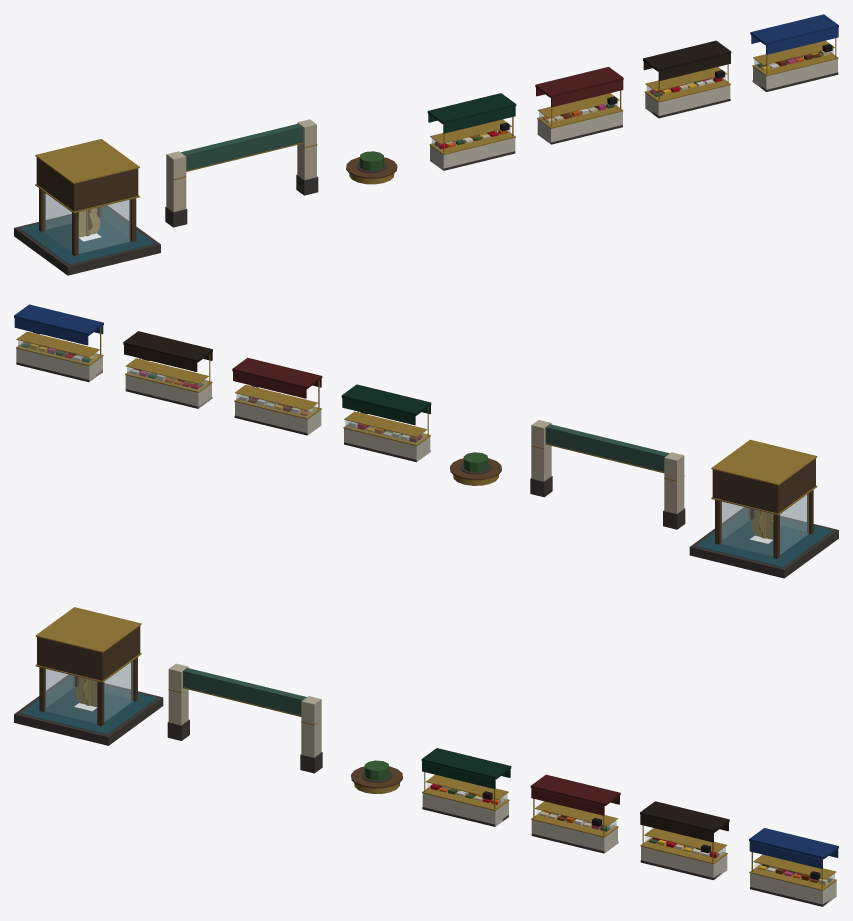
The model's file is miochika.glb.
3 views of the same model, one above another, from view 1: azimuth 30°, elevation 25°; view 2: azimuth 150°, elevation 25°; view 3: azimuth 330°, elevation 25° (orthographic).
Visible parts, largest first — view 1: miochika_clock_body, miochika_gate_body, miochika_counter_c_body, miochika_counter_a_body, miochika_counter_b_body, miochika_counter_d_body, miochika_bench_body, miochika_counter_b_signs, miochika_counter_a_signs, miochika_counter_c_signs, miochika_counter_d_signs; view 2: miochika_clock_body, miochika_gate_body, miochika_counter_c_body, miochika_counter_d_body, miochika_counter_b_body, miochika_counter_a_body, miochika_bench_body, miochika_counter_d_signs, miochika_counter_a_signs, miochika_counter_b_signs, miochika_counter_c_signs; view 3: miochika_clock_body, miochika_gate_body, miochika_counter_a_body, miochika_counter_b_body, miochika_counter_c_body, miochika_counter_d_body, miochika_bench_body, miochika_counter_c_signs, miochika_counter_d_signs, miochika_counter_a_signs, miochika_counter_b_signs.
Part boxes in pixels (bbox=[...]): miochika_clock_body: bbox=[14, 139, 160, 275]; miochika_gate_body: bbox=[165, 119, 318, 227]; miochika_counter_c_body: bbox=[643, 40, 731, 118]; miochika_counter_a_body: bbox=[427, 93, 516, 170]; miochika_counter_b_body: bbox=[535, 67, 623, 144]; miochika_counter_d_body: bbox=[750, 14, 838, 91]; miochika_bench_body: bbox=[346, 151, 397, 184]; miochika_counter_b_signs: bbox=[551, 80, 623, 107]; miochika_counter_a_signs: bbox=[444, 107, 515, 133]; miochika_counter_c_signs: bbox=[659, 54, 730, 80]; miochika_counter_d_signs: bbox=[767, 28, 838, 54]; miochika_clock_body: bbox=[689, 439, 838, 578]; miochika_gate_body: bbox=[530, 420, 685, 529]; miochika_counter_c_body: bbox=[123, 331, 212, 408]; miochika_counter_d_body: bbox=[14, 304, 103, 382]; miochika_counter_b_body: bbox=[232, 357, 322, 435]; miochika_counter_a_body: bbox=[341, 384, 431, 462]; miochika_bench_body: bbox=[450, 452, 501, 485]; miochika_counter_d_signs: bbox=[14, 318, 87, 345]; miochika_counter_a_signs: bbox=[342, 398, 414, 425]; miochika_counter_b_signs: bbox=[233, 371, 305, 398]; miochika_counter_c_signs: bbox=[124, 345, 196, 371]; miochika_clock_body: bbox=[14, 607, 163, 745]; miochika_gate_body: bbox=[167, 663, 322, 773]; miochika_counter_a_body: bbox=[421, 748, 511, 826]; miochika_counter_b_body: bbox=[530, 774, 620, 853]; miochika_counter_c_body: bbox=[640, 801, 729, 880]; miochika_counter_d_body: bbox=[749, 828, 838, 906]; miochika_bench_body: bbox=[351, 760, 402, 793]; miochika_counter_c_signs: bbox=[640, 815, 713, 842]; miochika_counter_d_signs: bbox=[749, 842, 822, 868]; miochika_counter_a_signs: bbox=[422, 762, 494, 788]; miochika_counter_b_signs: bbox=[531, 788, 603, 815].
Size of the model in its own units: 43.75 by 4.46 by 5.2.
